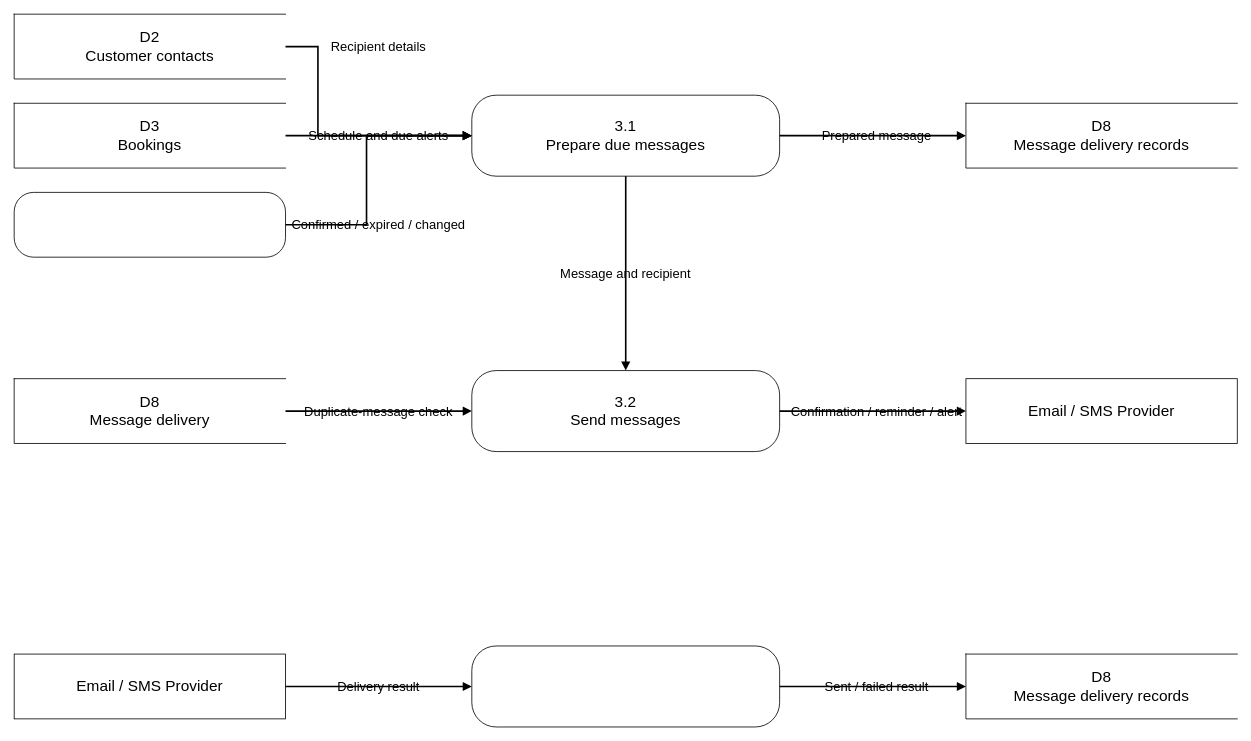
Image size: 1251x741. Some labels were removed from this diagram. Here are the shapes that lost their labels. From the top down, the centre of each, then its label:
At (x=149, y=224): "2.0 Reservations".
At (x=625, y=686): "3.3 Save delivery result".
